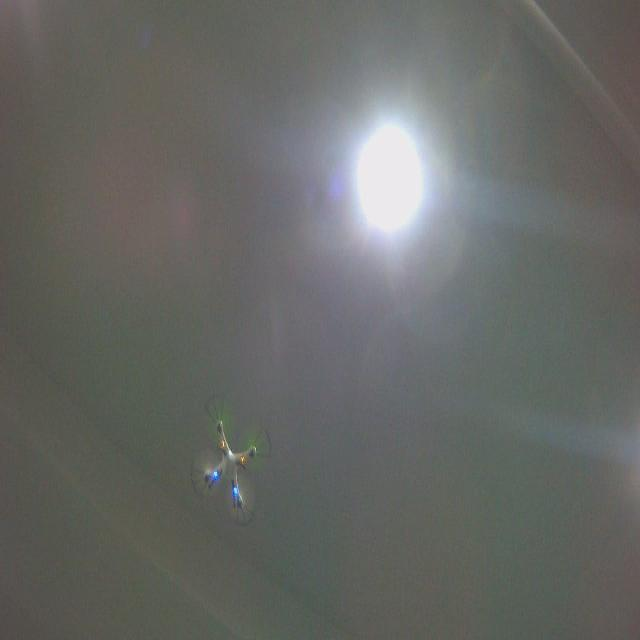drone: (186, 391, 276, 532)
